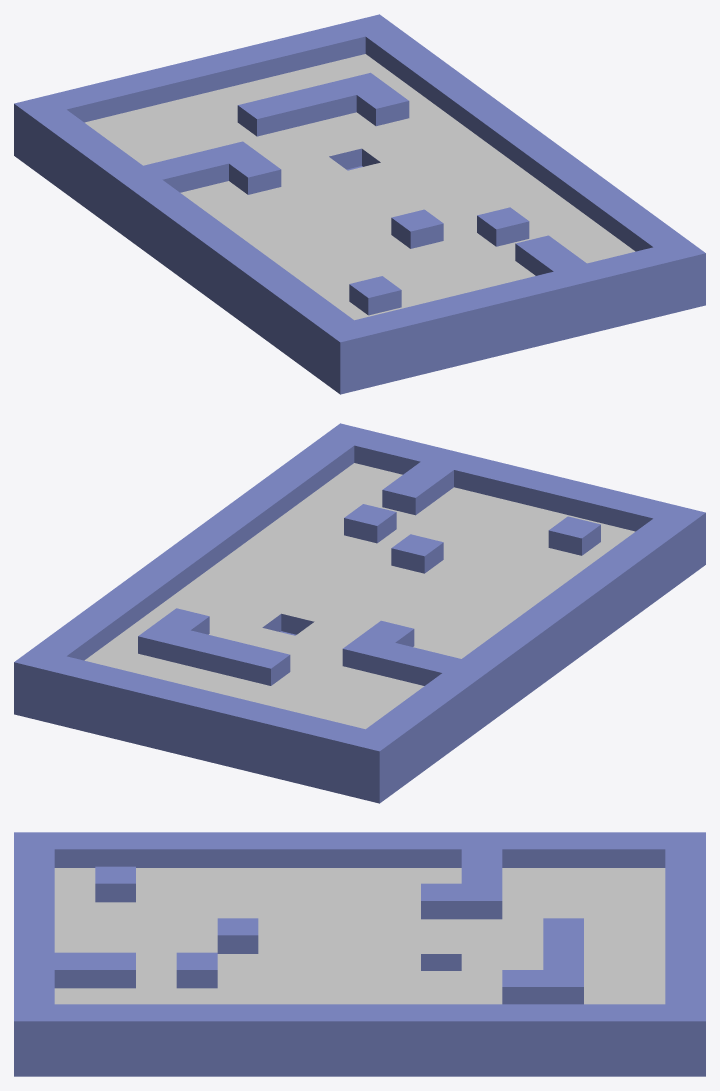
File: 055_platform.fbx
The picture shows the model from 3 angles, top to bottom: view 1: azimuth 30°, elevation 25°; view 2: azimuth 150°, elevation 25°; view 3: azimuth 270°, elevation 25°; orthographic projection. The views are drawn at different scales.
Visible parts, largest first — view 1: Grid; view 2: Grid; view 3: Grid.
Boxes of the visible parts, x1=… form: Grid: x1=14, y1=14, x2=705, y2=394; Grid: x1=14, y1=423, x2=705, y2=803; Grid: x1=14, y1=832, x2=705, y2=1076.
Bounding box in the file's own units: 1100 × 150 × 1700.
